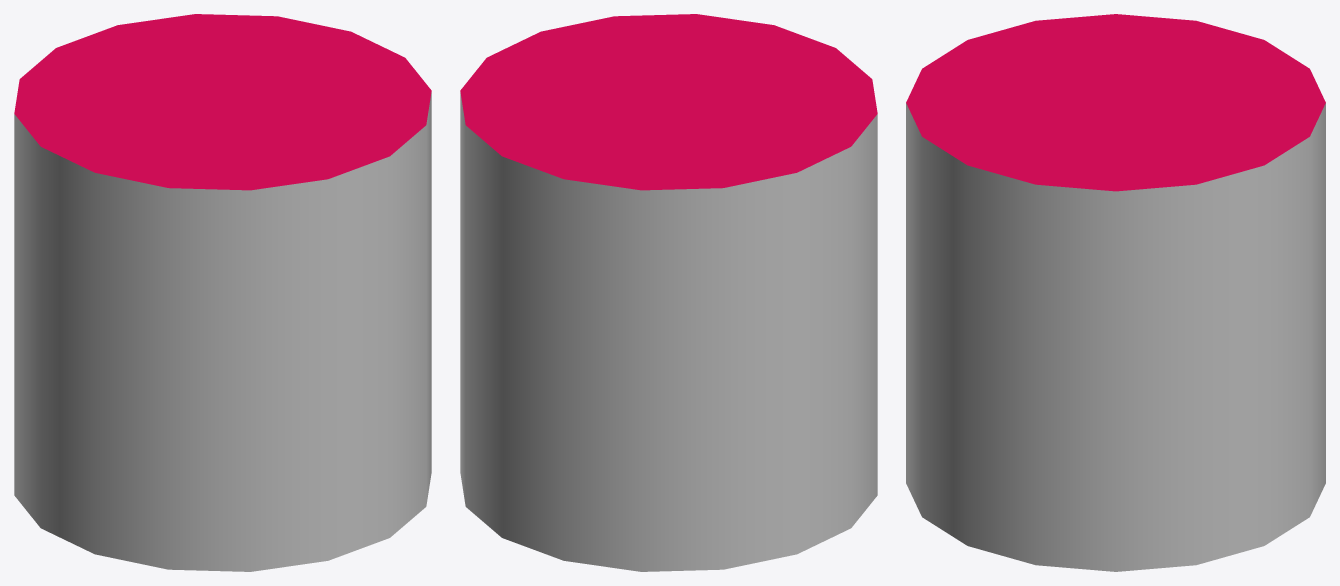
The model's file is Cylinder_BlendShaped_Split.fbx.
3 renders of one model, left to right at view 1: azimuth 30°, elevation 25°; view 2: azimuth 150°, elevation 25°; view 3: azimuth 270°, elevation 25°, orthographic.
Parts seen in each view (by area): view 1: Cylinder_Blend_S_Split; view 2: Cylinder_Blend_S_Split; view 3: Cylinder_Blend_S_Split.
Boxes of the visible parts, <box> form: Cylinder_Blend_S_Split: <box>14,14,431,571</box>; Cylinder_Blend_S_Split: <box>460,14,877,571</box>; Cylinder_Blend_S_Split: <box>906,14,1325,571</box>.
Bounding box in the file's own units: 0.5 × 0.5 × 0.5.
